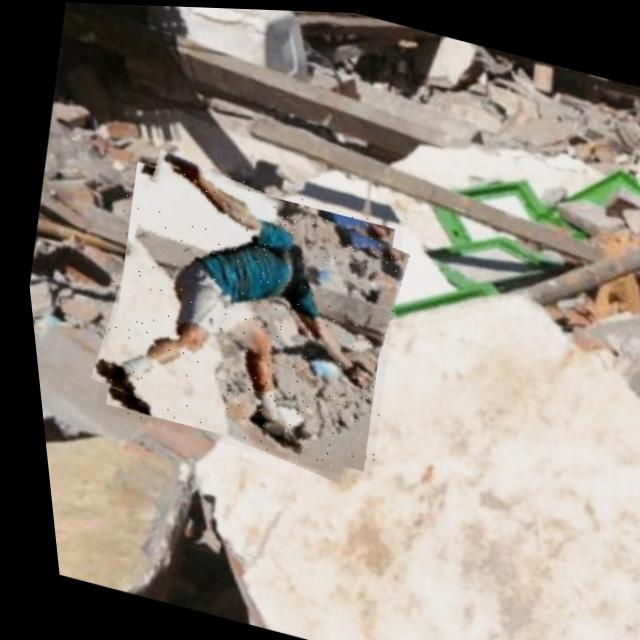Person in Rubble: (65, 148, 421, 482)
